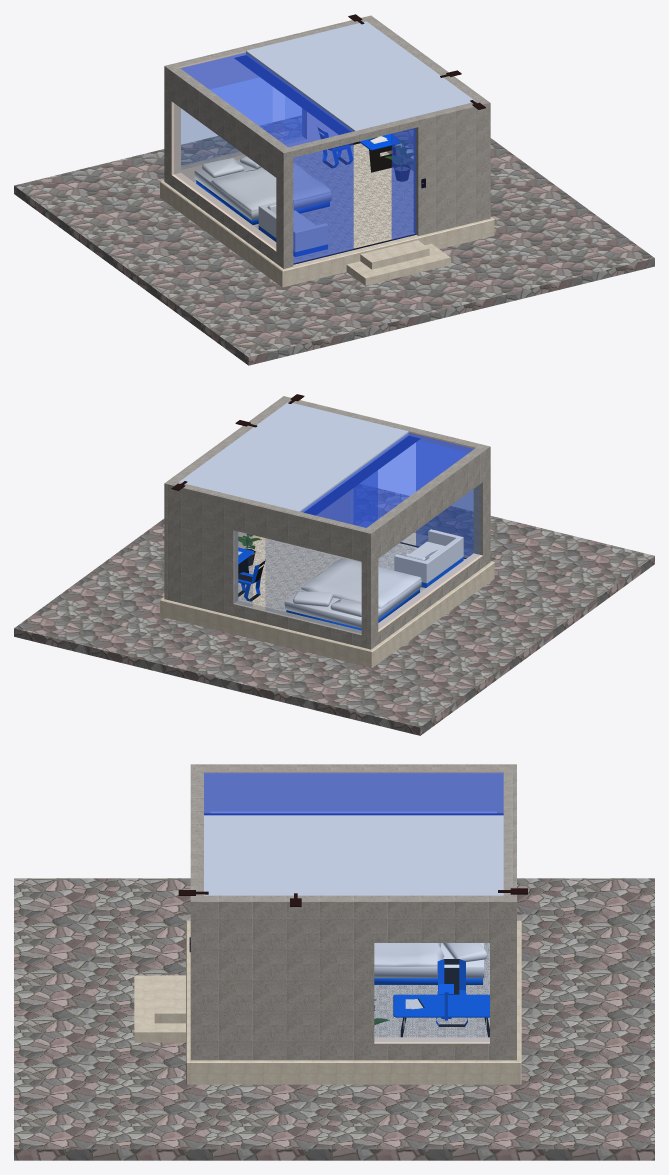
The picture shows the model from 3 angles, top to bottom: view 1: azimuth 30°, elevation 25°; view 2: azimuth 150°, elevation 25°; view 3: azimuth 270°, elevation 25°; orthographic projection. The views are drawn at different scales.
Parts seen in each view (by area): view 1: Plane.001, Roof, WallWhiteStone, EntranceWall, GlassDoor, Floor.001, WindowsEast, RoofGlassConvertible.001, Floor, Bed, WallWhiteStone.001, Cube.001 (+5 smaller); view 2: Plane.001, WallWhiteStone, Roof, WindowsSouth, WindowsEast, RoofGlassConvertible.001, Floor, Bed, Floor.001, GlassDoor, WallWhiteStone.002, Sofa (+5 smaller); view 3: Plane.001, WallWhiteStone.002, Roof, WallWhiteStone.001, RoofGlassConvertible.001, WindowsWest, Floor, Bed, WallWhiteStone, Floor.001, Cube.001, Table (+3 smaller).
Part boxes in pixels (bbox=[...]): Plane.001: bbox=[14, 115, 654, 365]; Roof: bbox=[246, 21, 475, 131]; WallWhiteStone: bbox=[164, 18, 365, 268]; EntranceWall: bbox=[288, 101, 480, 235]; GlassDoor: bbox=[293, 128, 415, 263]; Floor.001: bbox=[191, 143, 413, 261]; WindowsEast: bbox=[174, 103, 275, 248]; RoofGlassConvertible.001: bbox=[180, 52, 353, 147]; Floor: bbox=[160, 179, 494, 287]; Bed: bbox=[194, 156, 331, 224]; WallWhiteStone.001: bbox=[171, 51, 413, 251]; Cube.001: bbox=[346, 240, 450, 285]; Plane.001: bbox=[14, 488, 654, 735]; WallWhiteStone: bbox=[173, 444, 490, 649]; Roof: bbox=[179, 402, 408, 512]; WindowsSouth: bbox=[235, 531, 361, 633]; WindowsEast: bbox=[378, 484, 480, 628]; RoofGlassConvertible.001: bbox=[301, 433, 473, 527]; Floor: bbox=[160, 540, 494, 667]; Bed: bbox=[284, 558, 421, 630]; Floor.001: bbox=[238, 537, 425, 611]; GlassDoor: bbox=[354, 441, 473, 558]; WallWhiteStone.002: bbox=[164, 396, 290, 601]; Sofa: bbox=[394, 529, 463, 587]; Plane.001: bbox=[14, 878, 654, 1160]; WallWhiteStone.002: bbox=[190, 895, 516, 1060]; Roof: bbox=[204, 815, 503, 895]; WallWhiteStone.001: bbox=[204, 770, 503, 1043]; RoofGlassConvertible.001: bbox=[204, 772, 503, 815]; WindowsWest: bbox=[374, 943, 489, 1041]; Floor: bbox=[186, 920, 521, 1084]; Bed: bbox=[374, 943, 487, 984]; WallWhiteStone: bbox=[190, 764, 516, 895]; Floor.001: bbox=[374, 943, 489, 1037]; Cube.001: bbox=[134, 975, 185, 1042]; Table: bbox=[393, 994, 489, 1037].
Bounding box in the file's own units: 25.29 × 8.42 × 25.29.
Materials: 26 (5 with a texture image).
